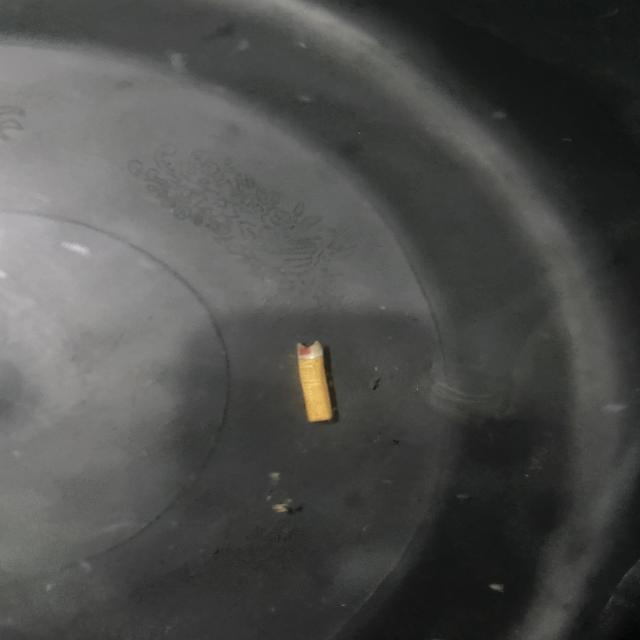Cigarette Filter: (270, 330, 366, 436)
